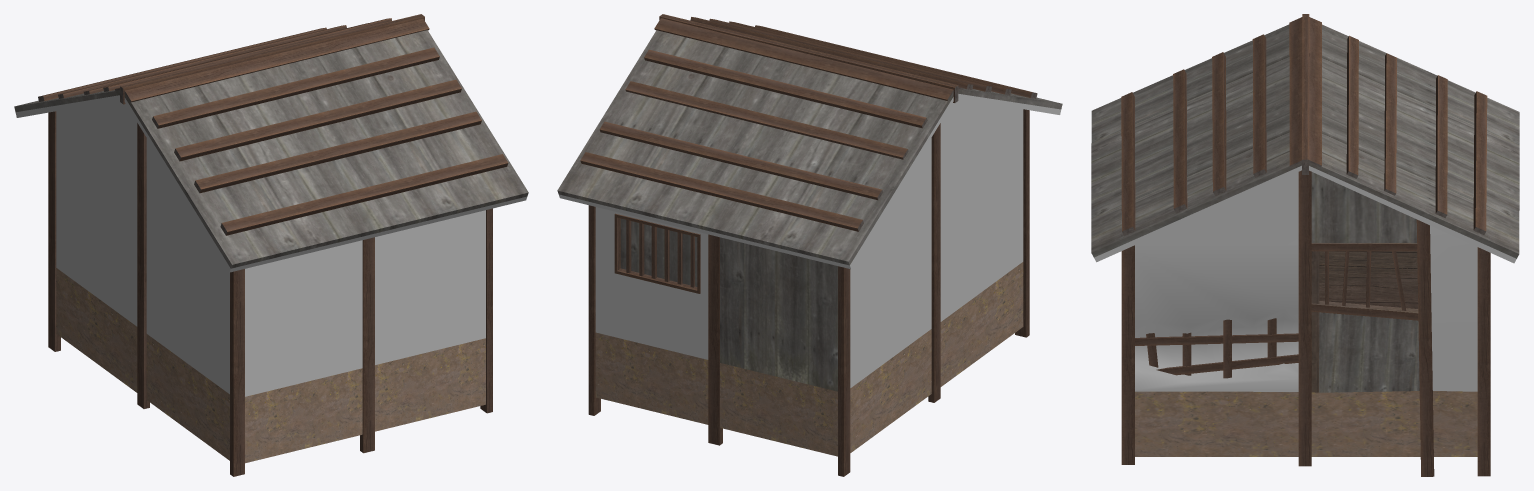
The model's file is jov_shed02a.fbx.
3 views of the same model, side by side, from view 1: azimuth 30°, elevation 25°; view 2: azimuth 150°, elevation 25°; view 3: azimuth 270°, elevation 25° (orthographic).
Visible parts, largest first — view 1: jov_shed02a; view 2: jov_shed02a; view 3: jov_shed02a.
Part boxes in pixels (bbox=[...]): jov_shed02a: bbox=[14, 14, 528, 476]; jov_shed02a: bbox=[557, 14, 1062, 476]; jov_shed02a: bbox=[1091, 14, 1519, 476].
Size of the model in its own units: 407 by 430 by 510.
